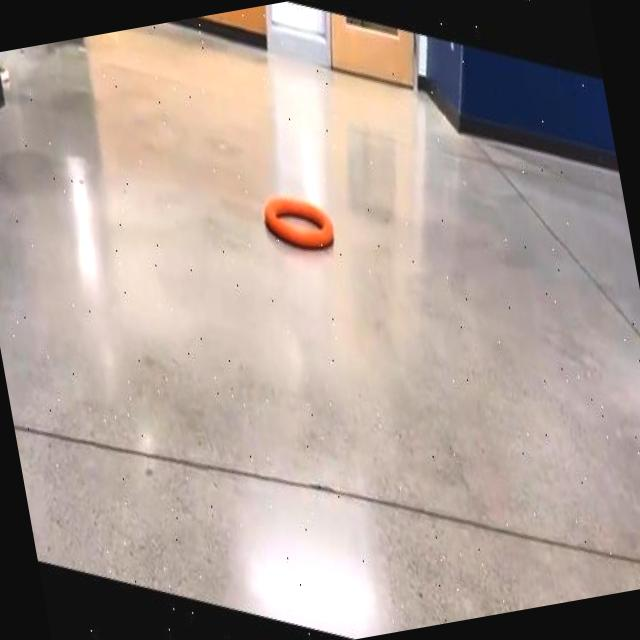note: (264, 196, 333, 248)
